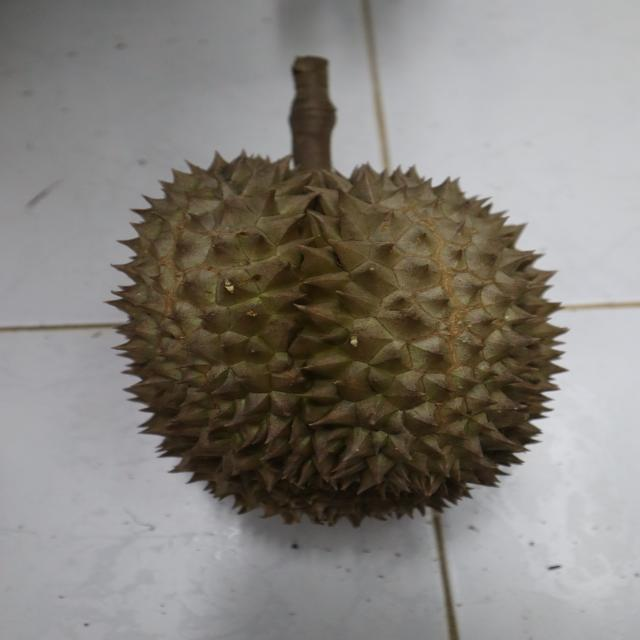mature: (114, 151, 567, 530)
